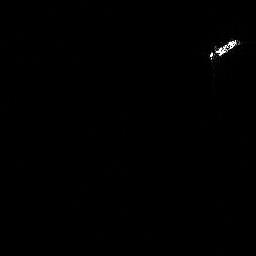ship: (208, 38, 242, 63)
